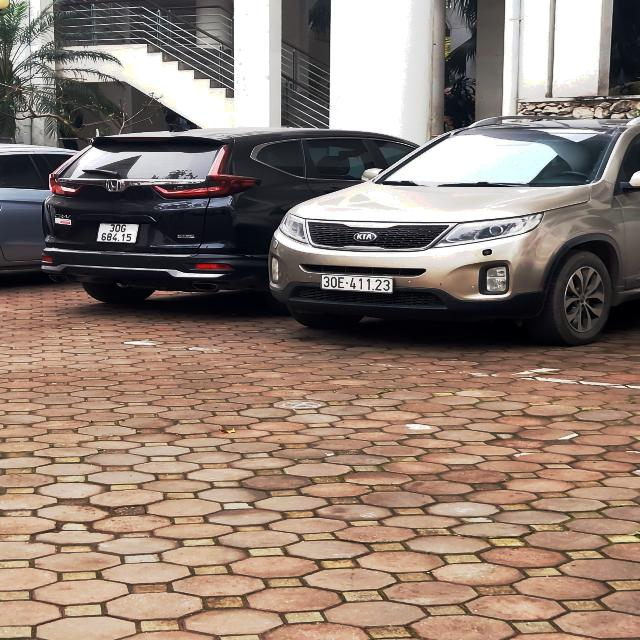license_plate: (322, 275, 394, 294), (97, 224, 140, 244)
